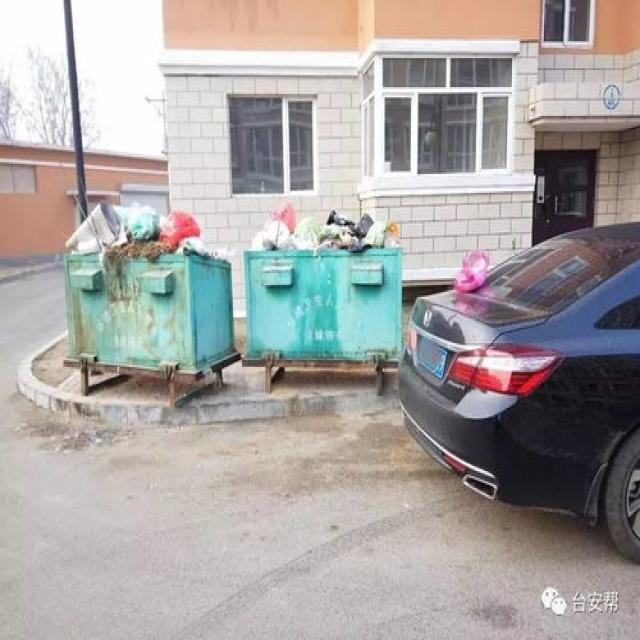overflow: (61, 198, 233, 372), (242, 205, 401, 355)
